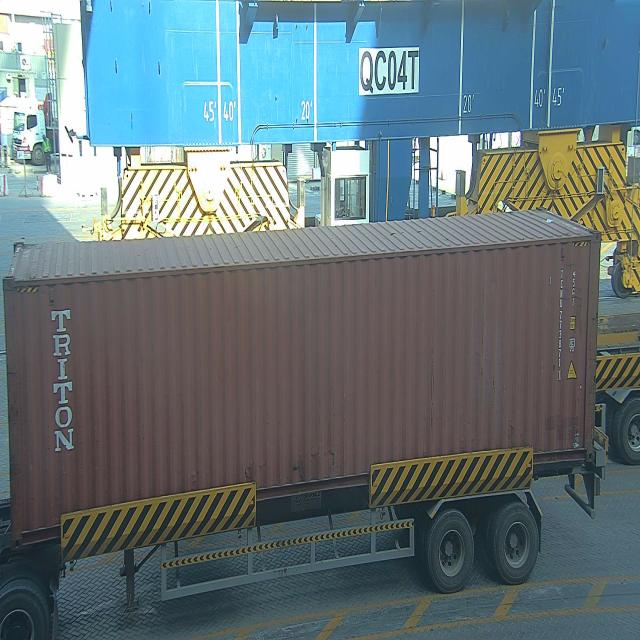dent: (290, 443, 342, 481)
